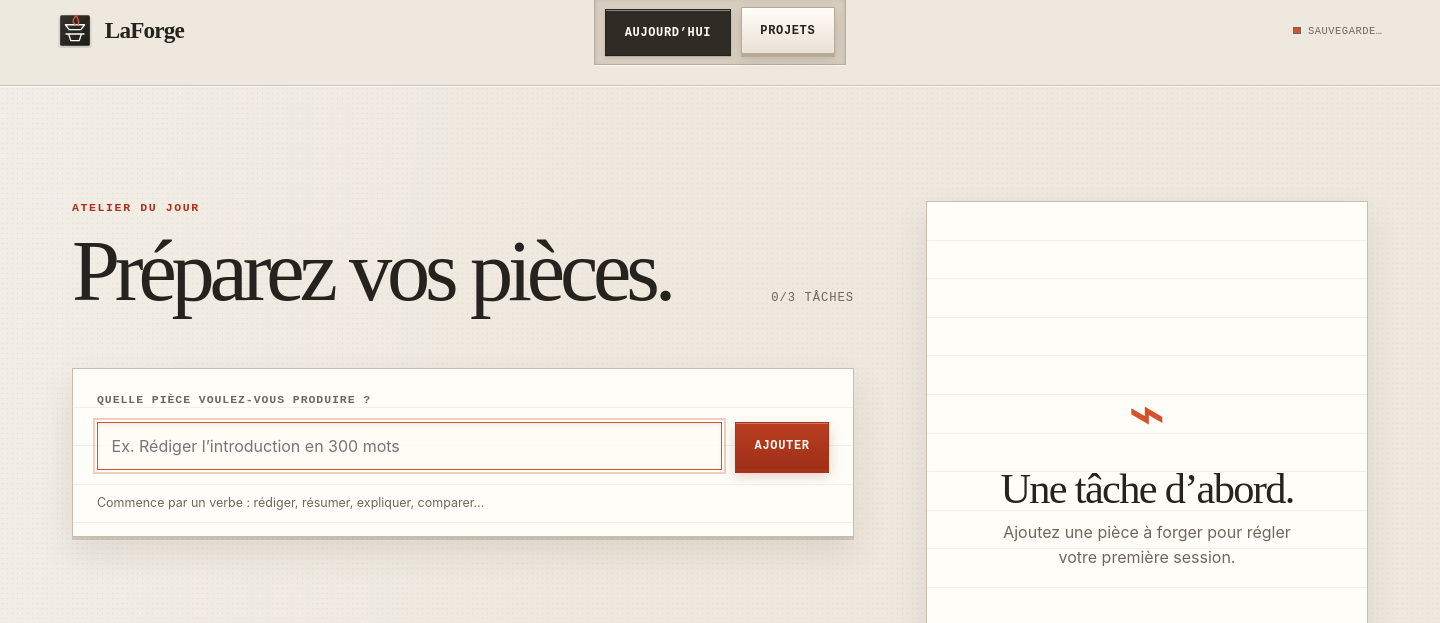
Scenario: App › creates a project and opens its independent workshop
Click the button "Projets" at (788, 31), box [741,7,835,54]
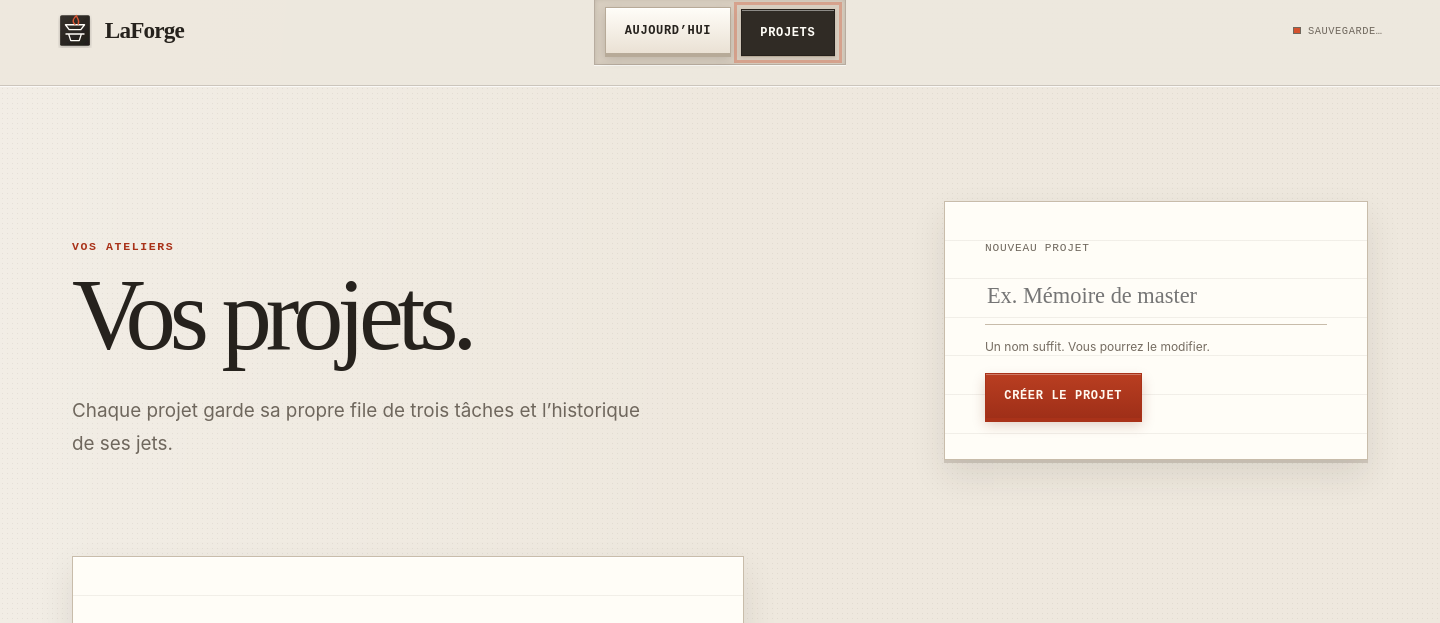
Type "Mémoire de master" into the field labelled "Nouveau projet" at (1156, 297), box [985,269,1327,325]
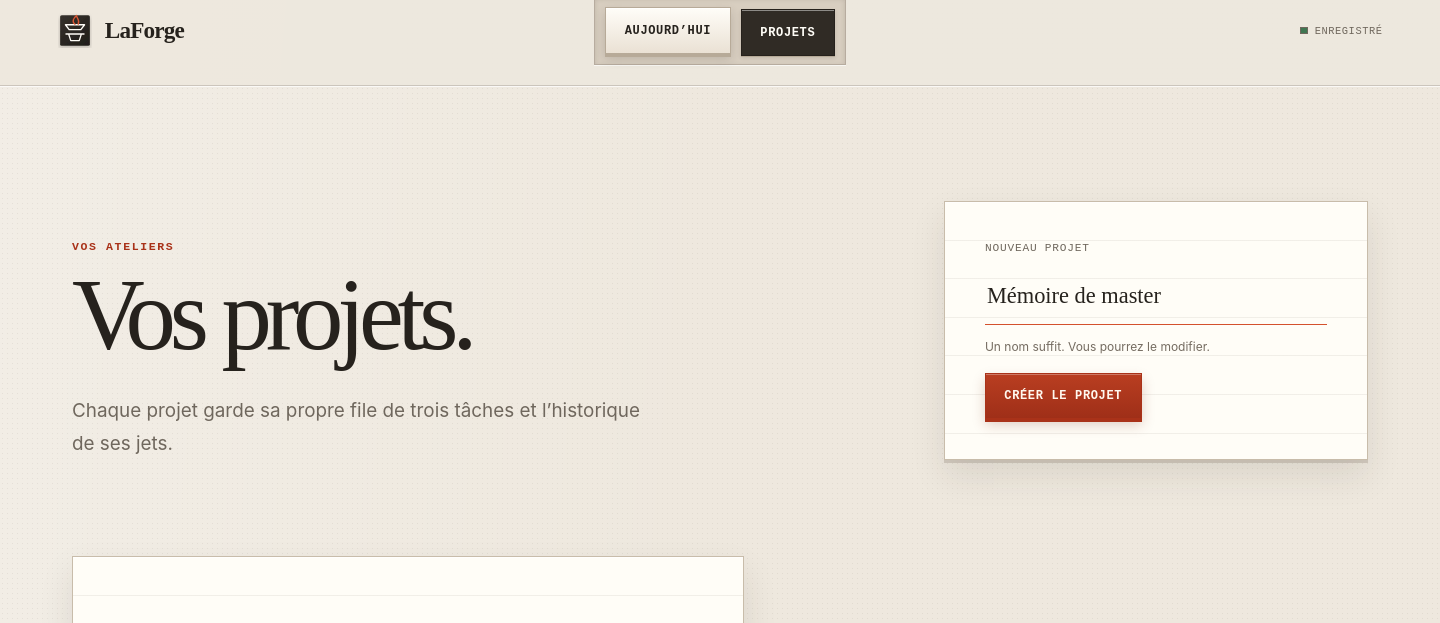
Click the button "Créer le projet" at (1063, 396), box [985,373,1142,419]
(page scrolled)
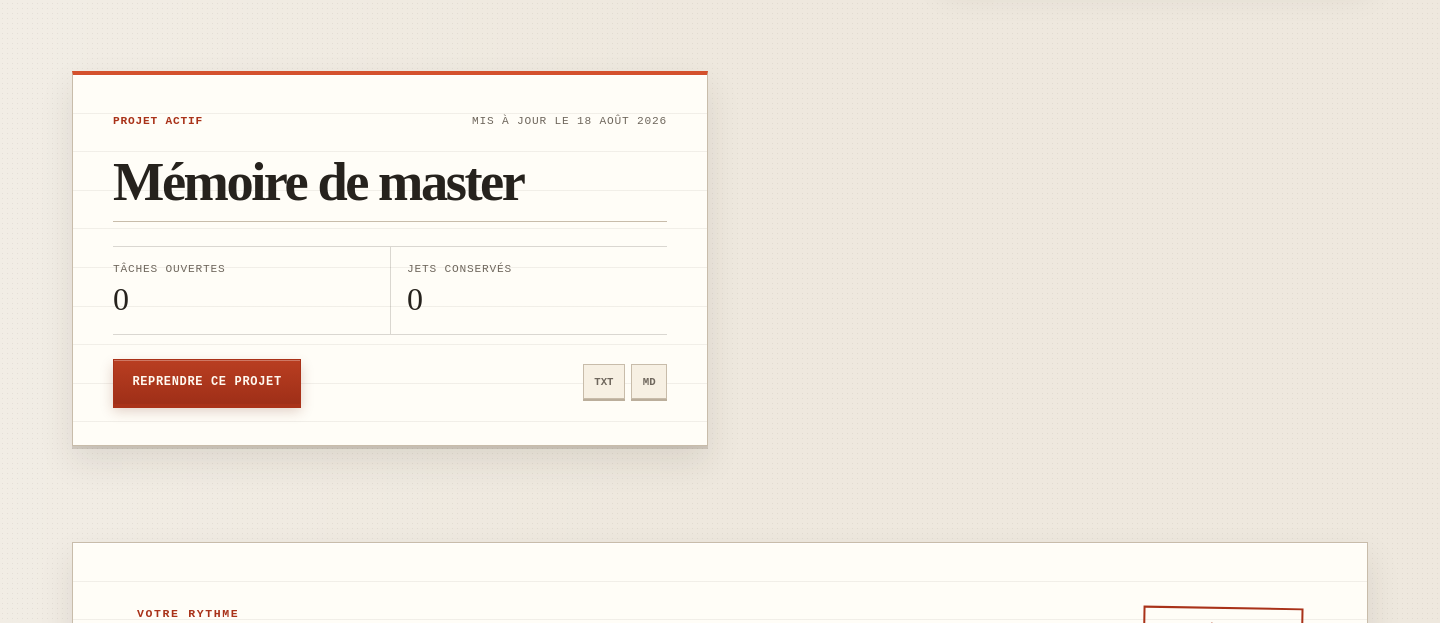
Now the field showing "Mémoire de master" is shown, box [113,151,667,222]
Click the button "Reprendre ce projet" at (207, 382), box [113,359,301,405]
(page scrolled)
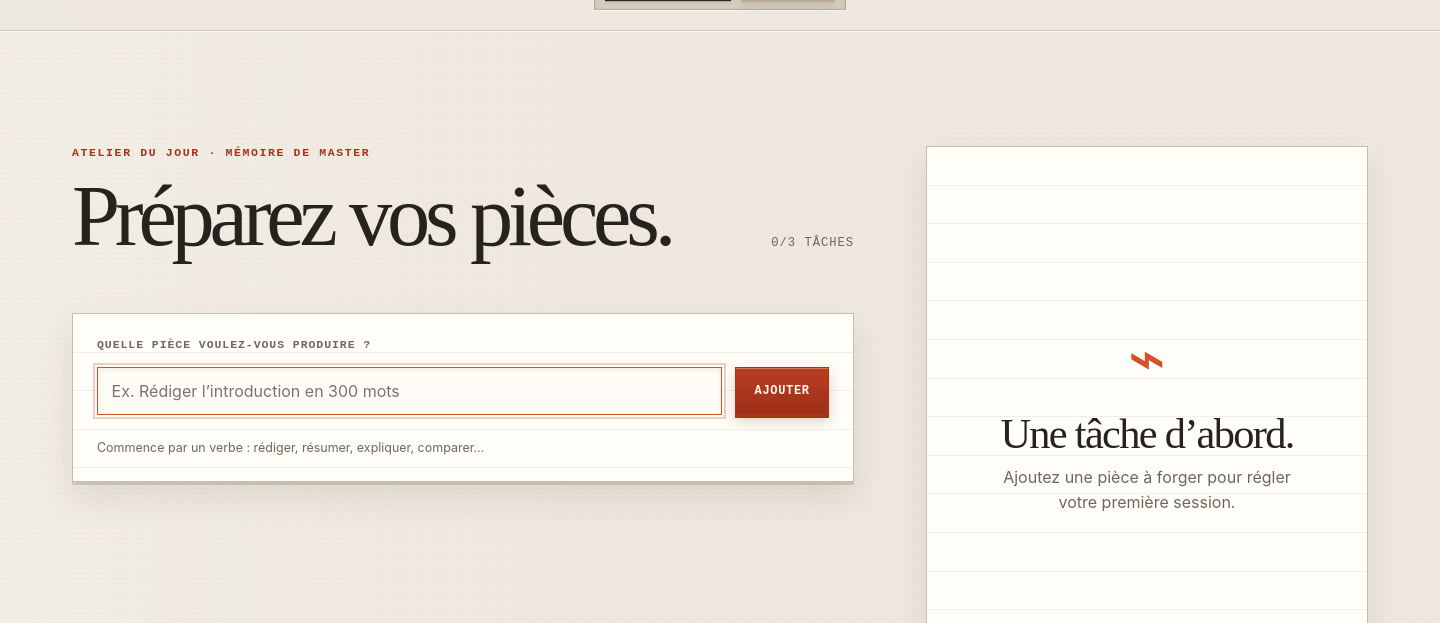
Now the heading "Préparez vos pièces." is shown, box [72,175,671,258]
Now the text "Atelier du jour · Mémoire de master" is shown, box [72,146,370,159]
